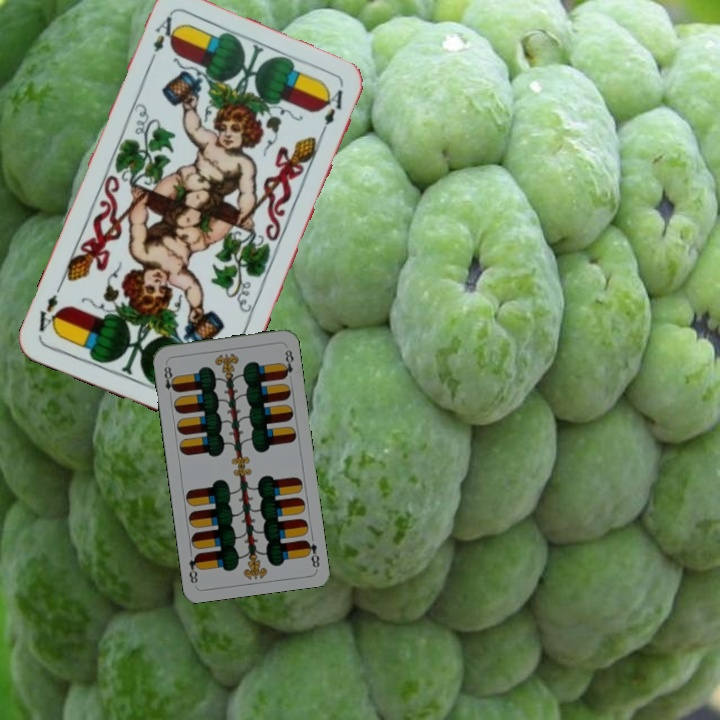E8: (301, 530, 322, 571), (160, 359, 179, 394)
EA: (144, 12, 180, 68)
